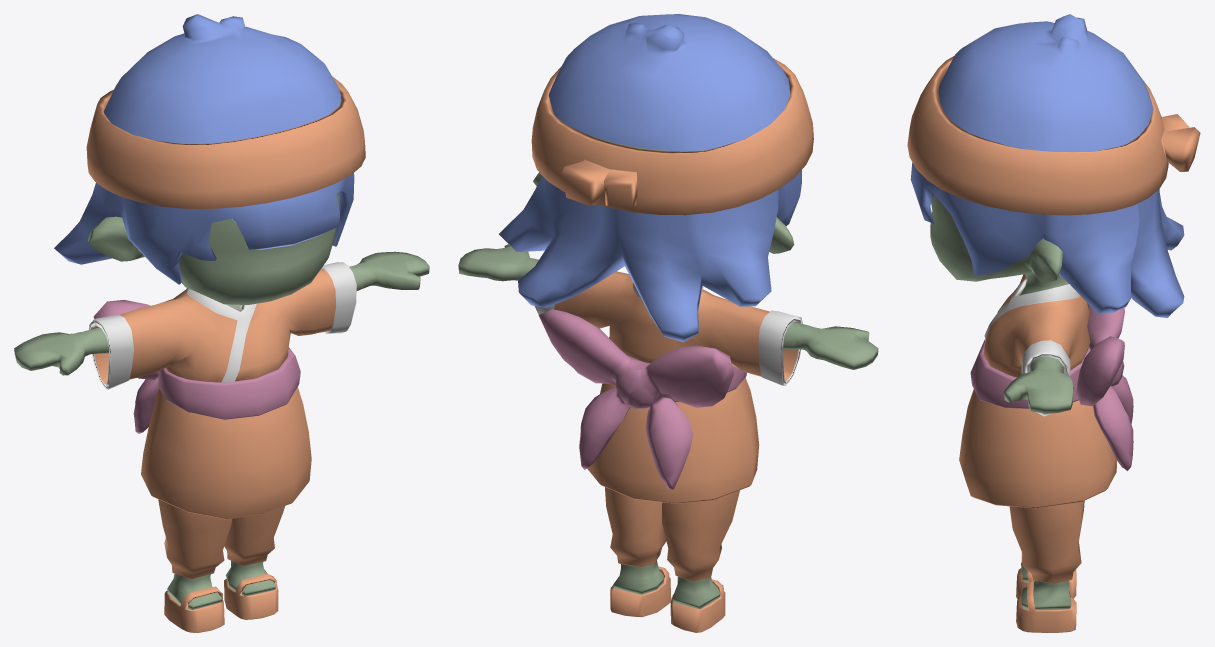
File: MP_SM_Ch_Momo_Mod_v02.fbx
3 views of the same model, side by side, from view 1: azimuth 30°, elevation 25°; view 2: azimuth 150°, elevation 25°; view 3: azimuth 270°, elevation 25° (orthographic).
Visible parts, largest first — view 1: geo_x_momo; view 2: geo_x_momo; view 3: geo_x_momo.
Boxes of the visible parts, x1,y1,x2,y2 form: geo_x_momo: (14, 14, 429, 632); geo_x_momo: (458, 14, 878, 632); geo_x_momo: (907, 14, 1200, 632).
Size of the model in its own units: 261 by 366 by 165.
